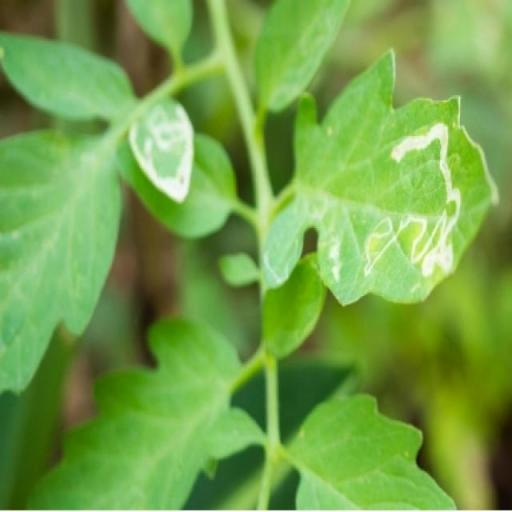disease_tomato: (262, 48, 498, 310), (130, 92, 196, 208)
